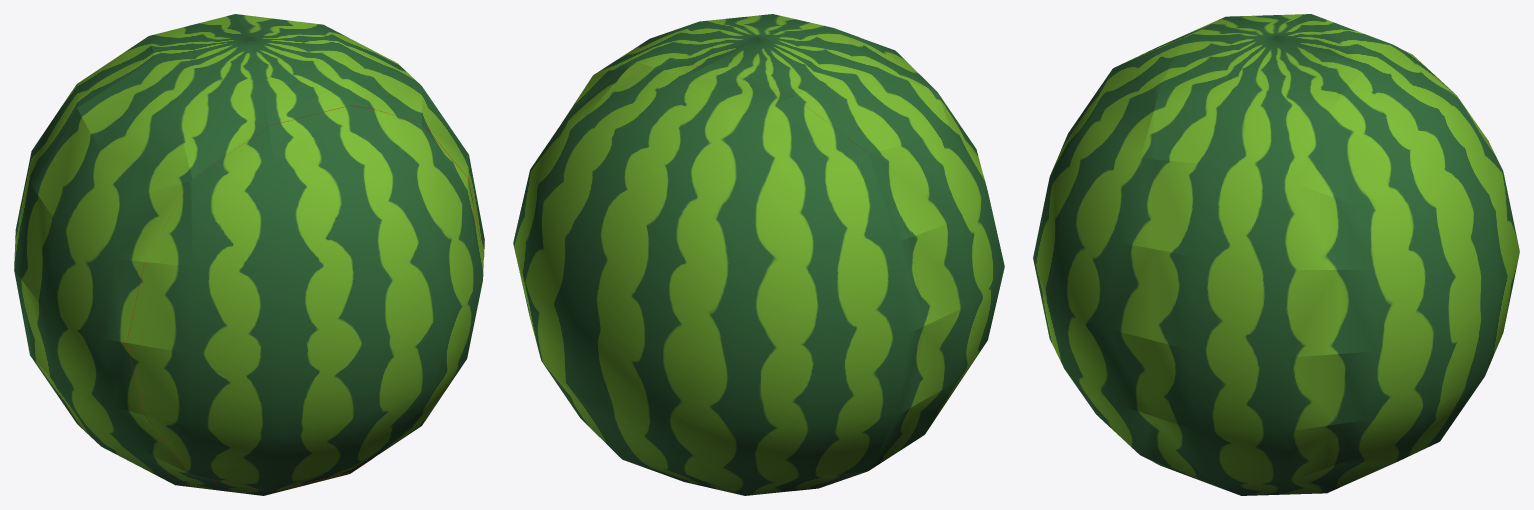
Rendered from WaterMelon.fbx.
3 views of the same model, side by side, from view 1: azimuth 30°, elevation 25°; view 2: azimuth 150°, elevation 25°; view 3: azimuth 270°, elevation 25° (orthographic).
Visible parts, largest first — view 1: polySurface25, polySurface23, polySurface24; view 2: polySurface24, polySurface23, polySurface25; view 3: polySurface23, polySurface24, polySurface25.
Boxes of the visible parts, x1,y1,x2,y2 form: polySurface25: [126, 105, 483, 491]; polySurface23: [21, 21, 484, 495]; polySurface24: [14, 14, 296, 414]; polySurface24: [513, 66, 924, 495]; polySurface23: [563, 14, 1004, 490]; polySurface25: [861, 38, 982, 173]; polySurface23: [1153, 14, 1339, 495]; polySurface24: [1337, 24, 1519, 487]; polySurface25: [1033, 48, 1155, 461].
Size of the model in its own units: 38.54 by 38.01 by 38.49.
1 material, 1 textured.
